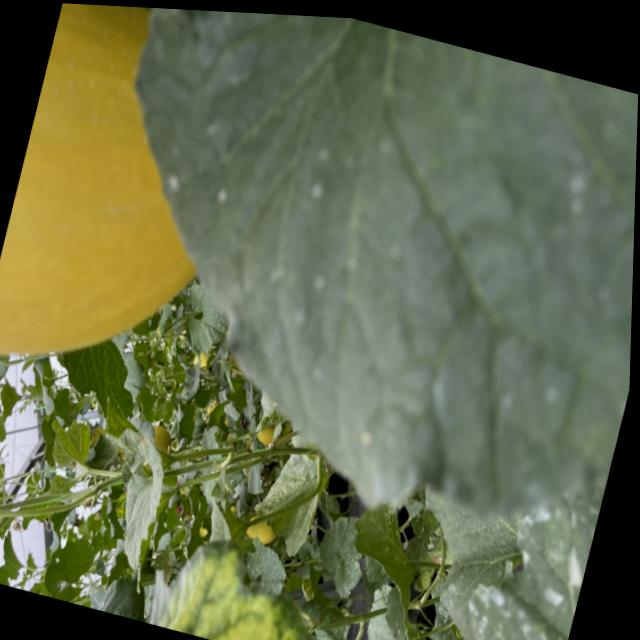alternaria leaf blight: (146, 527, 352, 640)
downy mildew: (123, 415, 163, 467)
healthy: (52, 328, 138, 417)
powdery mildew: (51, 3, 640, 537), (440, 476, 601, 640), (391, 474, 526, 637), (307, 507, 368, 599)
